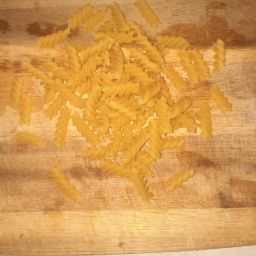Pasta: (9, 3, 241, 226), (30, 10, 241, 154), (79, 51, 209, 208), (6, 79, 69, 153), (111, 138, 179, 202), (23, 146, 89, 209), (63, 5, 134, 40), (104, 80, 143, 100), (40, 28, 75, 50)
